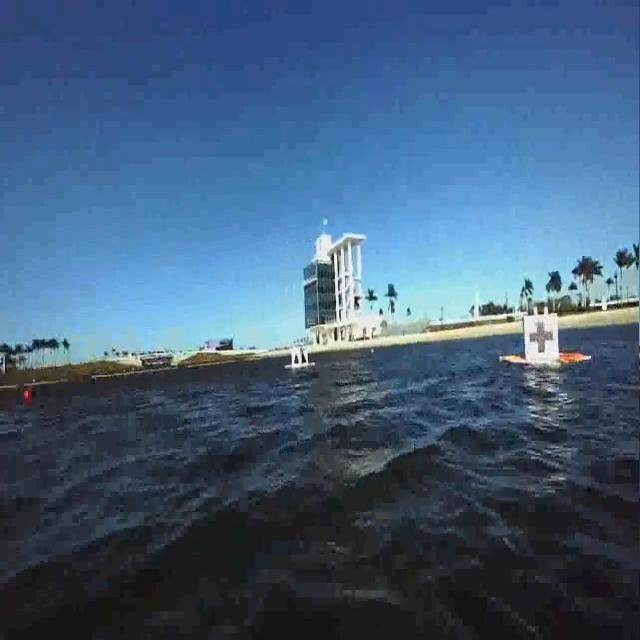red-buoy: (23, 382, 33, 402)
